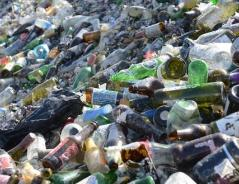glass: (41, 122, 100, 177)
